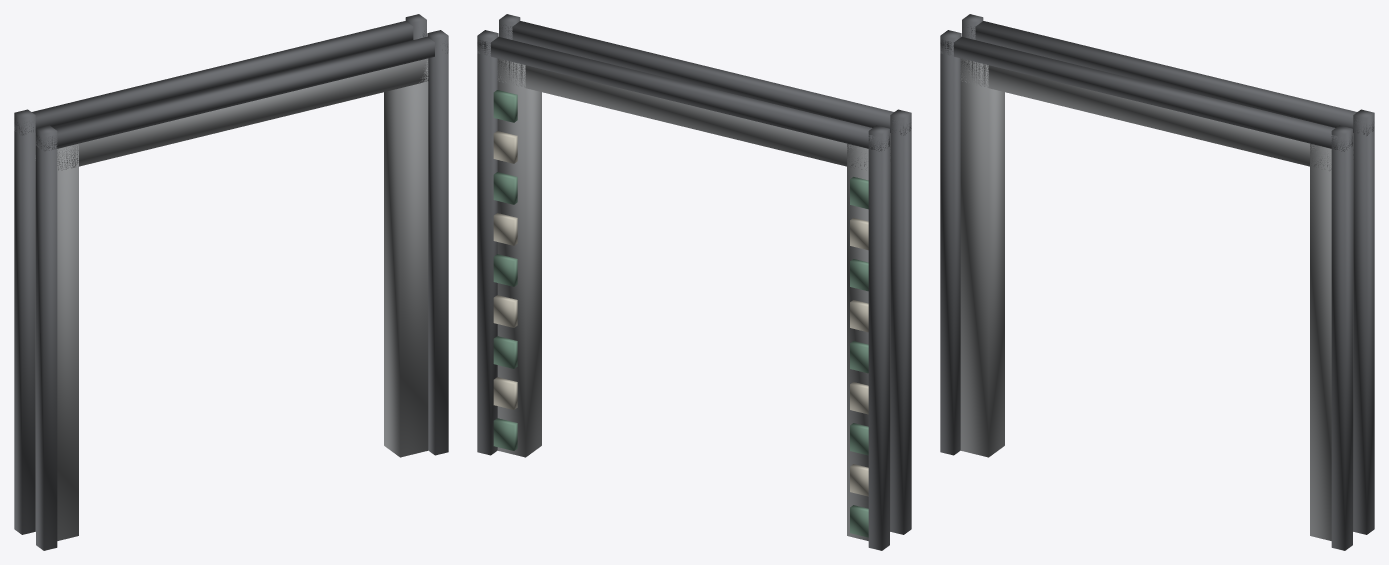
Rendered from doorway_tile_return_w182_h200_d16.glb.
The picture shows the model from 3 angles, left to right: view 1: azimuth 30°, elevation 25°; view 2: azimuth 150°, elevation 25°; view 3: azimuth 330°, elevation 25°; orthographic projection.
Visible parts, largest first — view 1: world; view 2: world; view 3: world.
Boxes of the visible parts, left/top/right/bottom form: world: left=14, top=14, right=448, bottom=550; world: left=477, top=14, right=911, bottom=550; world: left=940, top=14, right=1374, bottom=550.
Bounding box in the file's own units: 2.29 × 2.26 × 0.2906.
